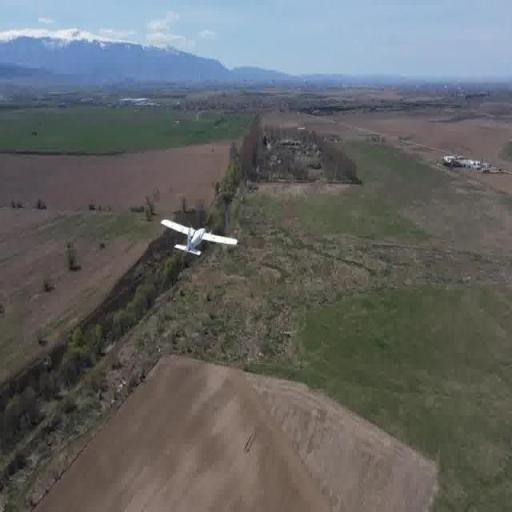uav: (156, 214, 241, 258)
